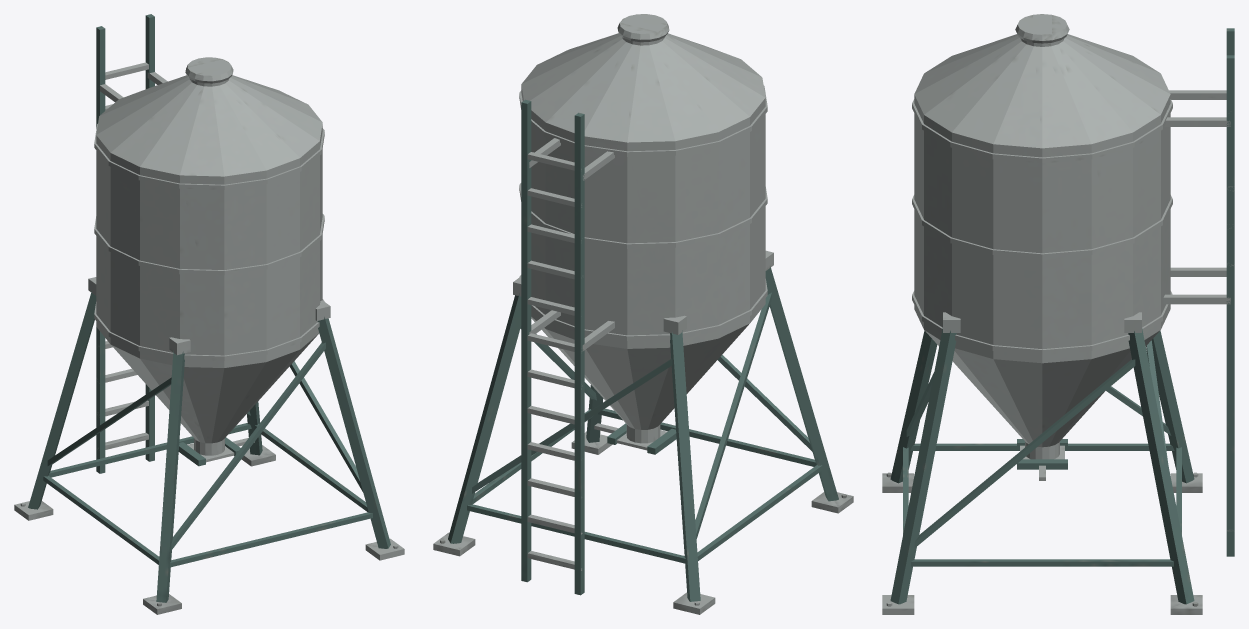
File: farmland_grain_hopper_tall.glb
3 views of the same model, side by side, from view 1: azimuth 30°, elevation 25°; view 2: azimuth 150°, elevation 25°; view 3: azimuth 270°, elevation 25° (orthographic). The views are drawn at different scales.
Visible parts, largest first — view 1: GrainHopperTall; view 2: GrainHopperTall; view 3: GrainHopperTall.
Boxes of the visible parts, x1=… form: GrainHopperTall: x1=14, y1=14, x2=404, y2=614; GrainHopperTall: x1=433, y1=14, x2=853, y2=614; GrainHopperTall: x1=882, y1=14, x2=1234, y2=614.
Size of what is drawn, in the model's own units: 2 by 3.6 by 2.2.
1 material, 1 textured.
